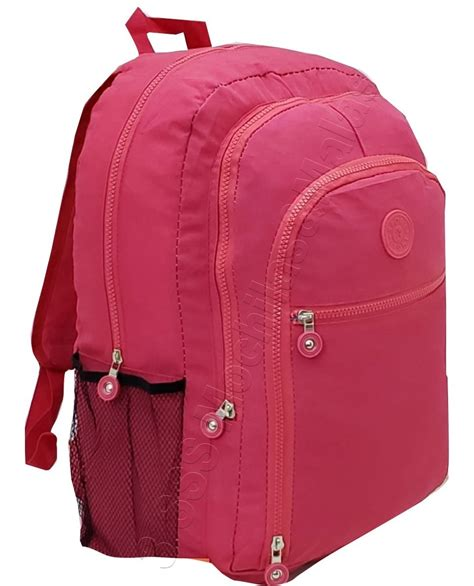nylon: (21, 4, 452, 586)
